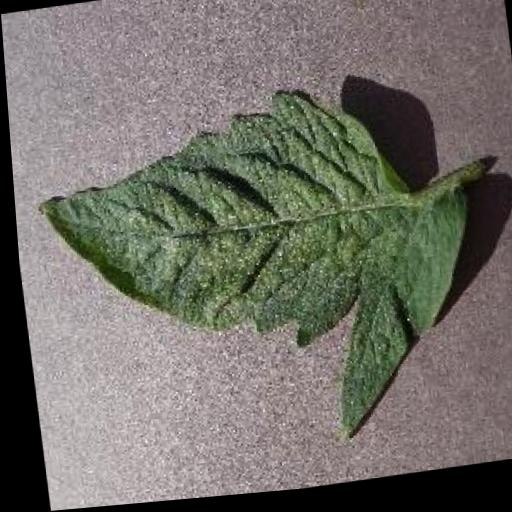Spider Mites: (23, 71, 489, 478)
